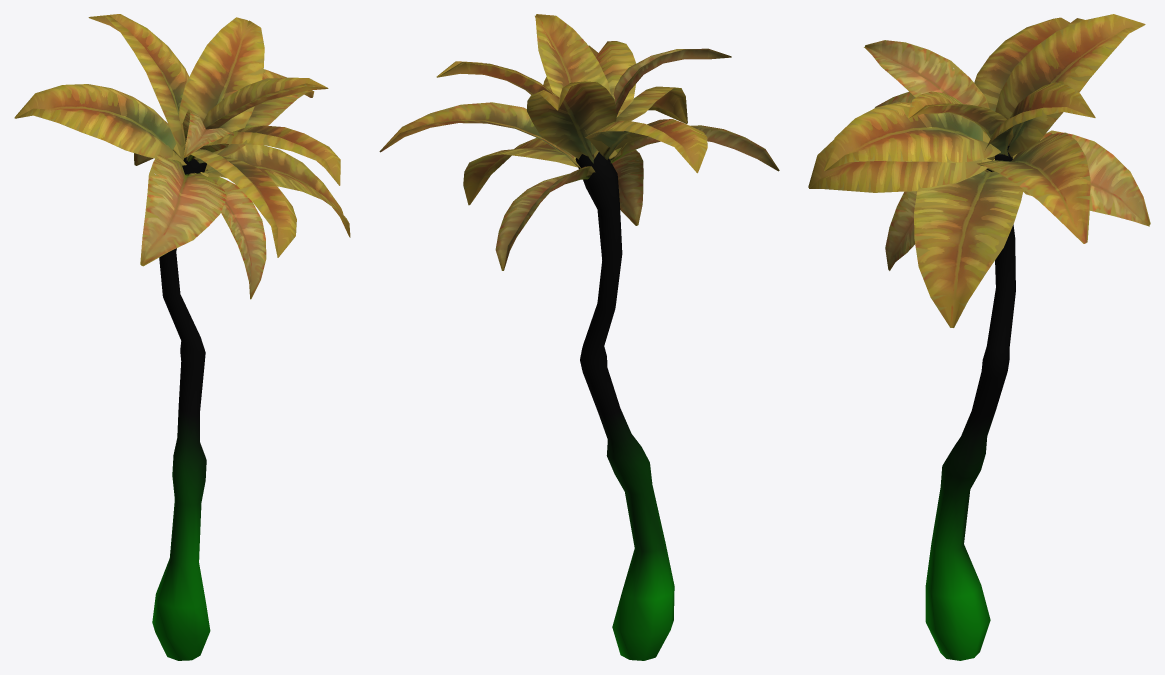
The model's file is P_DesertPalmSapling03.obj.
The picture shows the model from 3 angles, left to right: view 1: azimuth 30°, elevation 25°; view 2: azimuth 150°, elevation 25°; view 3: azimuth 270°, elevation 25°; orthographic projection. The views are drawn at different scales.
Size of the model in its own units: 3.23 by 6.06 by 2.96.
